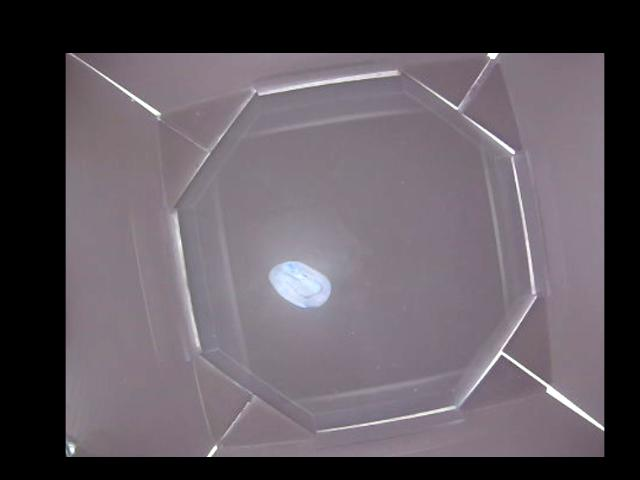Pebble: (267, 262, 331, 308)
